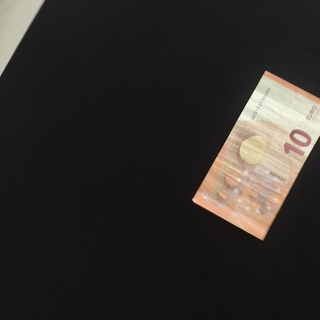10EUROBack: (191, 69, 320, 241)
